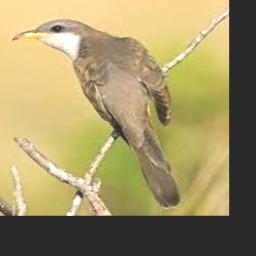Cuckoo: (12, 20, 184, 208)
